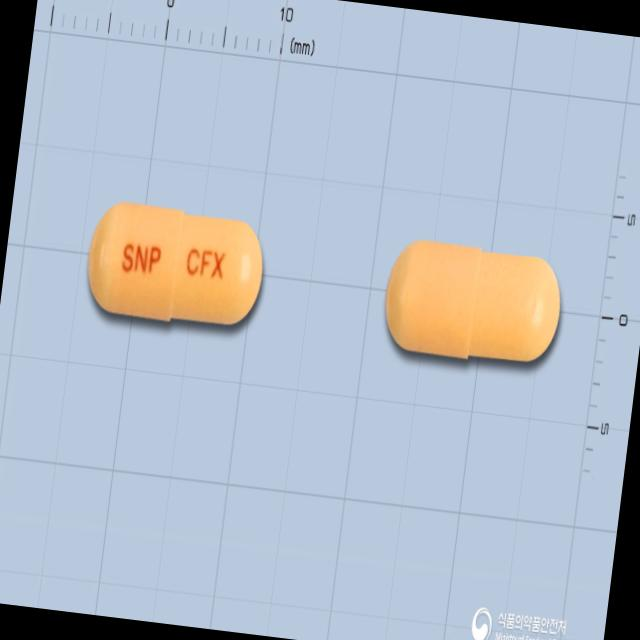A Progen Cefixime Cap: (80, 195, 270, 336)
